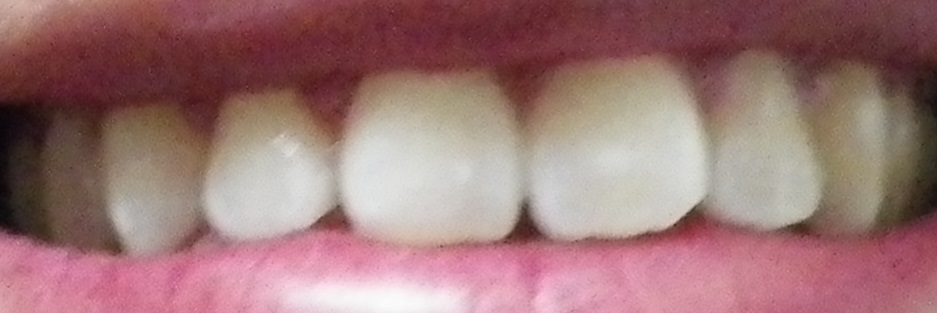boca: (38, 54, 921, 244)
